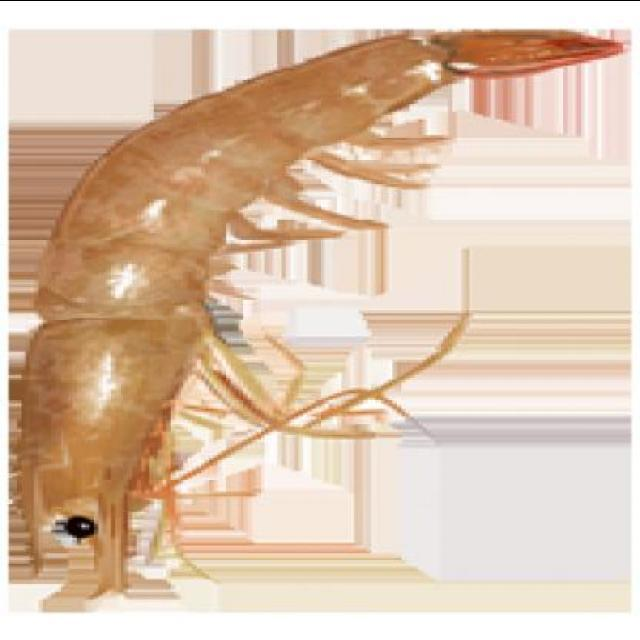shrimp: (3, 18, 635, 602)
